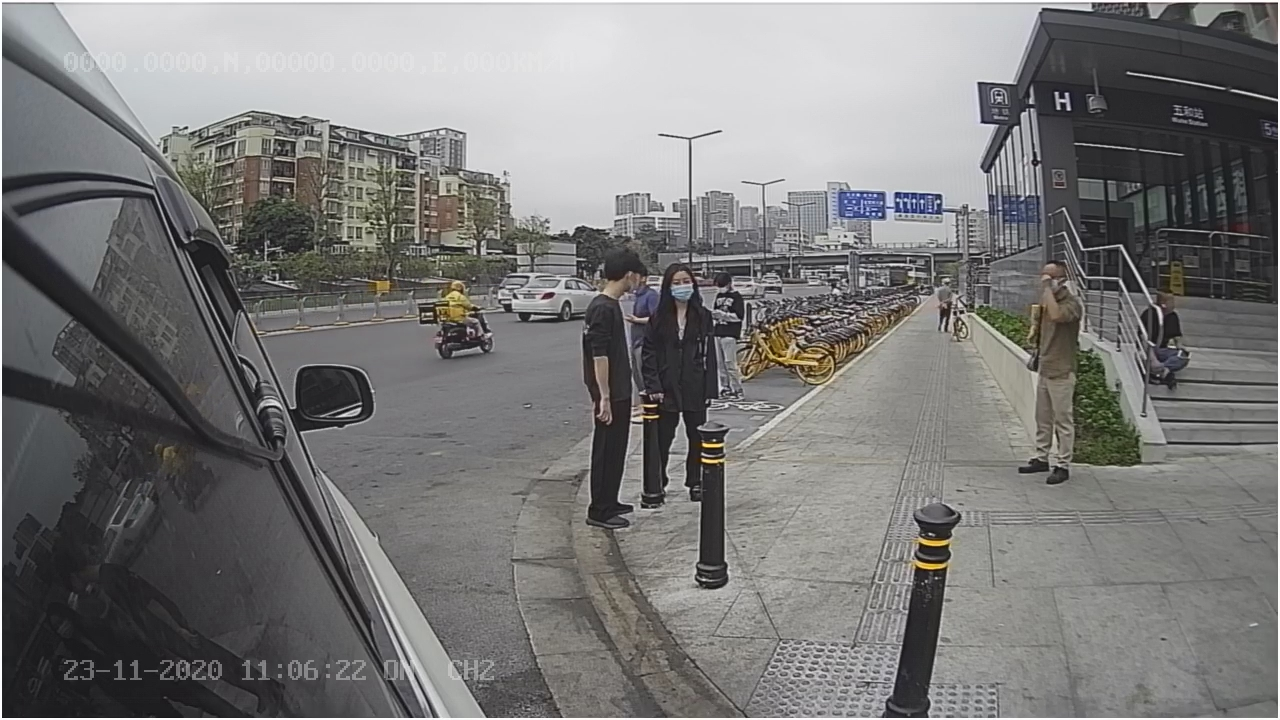person: (1012, 259, 1088, 491)
